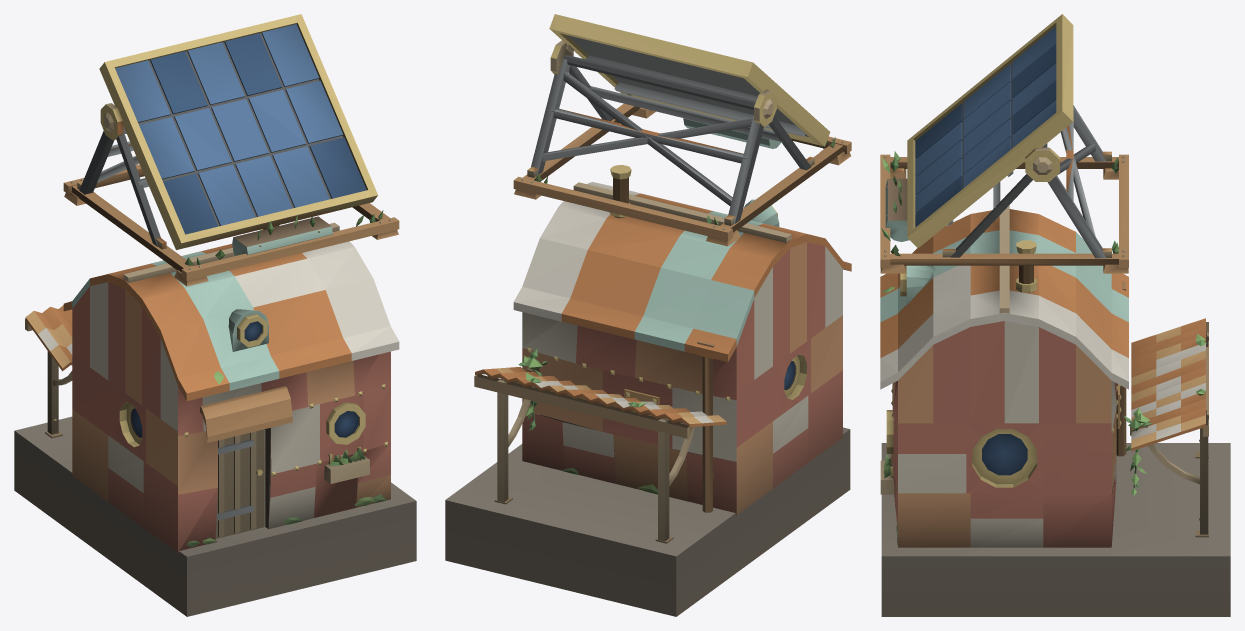
Rendered from cottage.glb.
3 views of the same model, side by side, from view 1: azimuth 30°, elevation 25°; view 2: azimuth 150°, elevation 25°; view 3: azimuth 270°, elevation 25° (orthographic).
Parts seen in each view (by area): view 1: cottage; view 2: cottage; view 3: cottage.
Part boxes in pixels (x1,y1,x2,y2): cottage: (14,14,416,616); cottage: (445,14,851,616); cottage: (880,14,1230,616).
Bounding box in the file's own units: 4.98 × 10.07 × 6.48.
